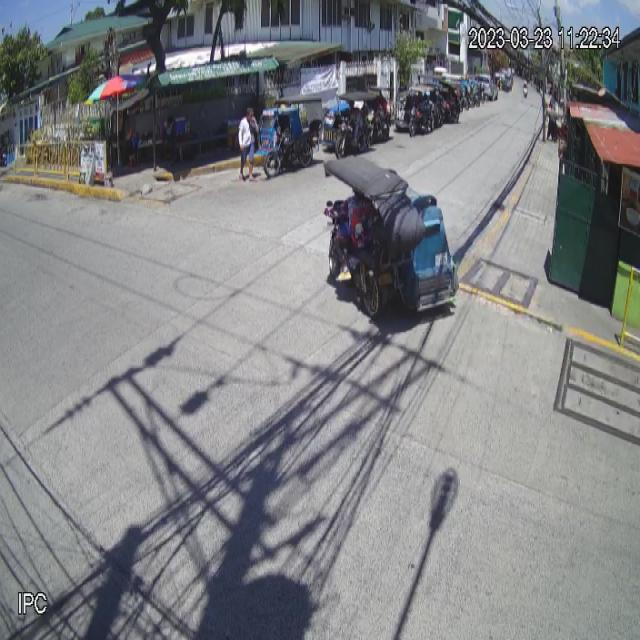Tricycle: (322, 152, 458, 325)
